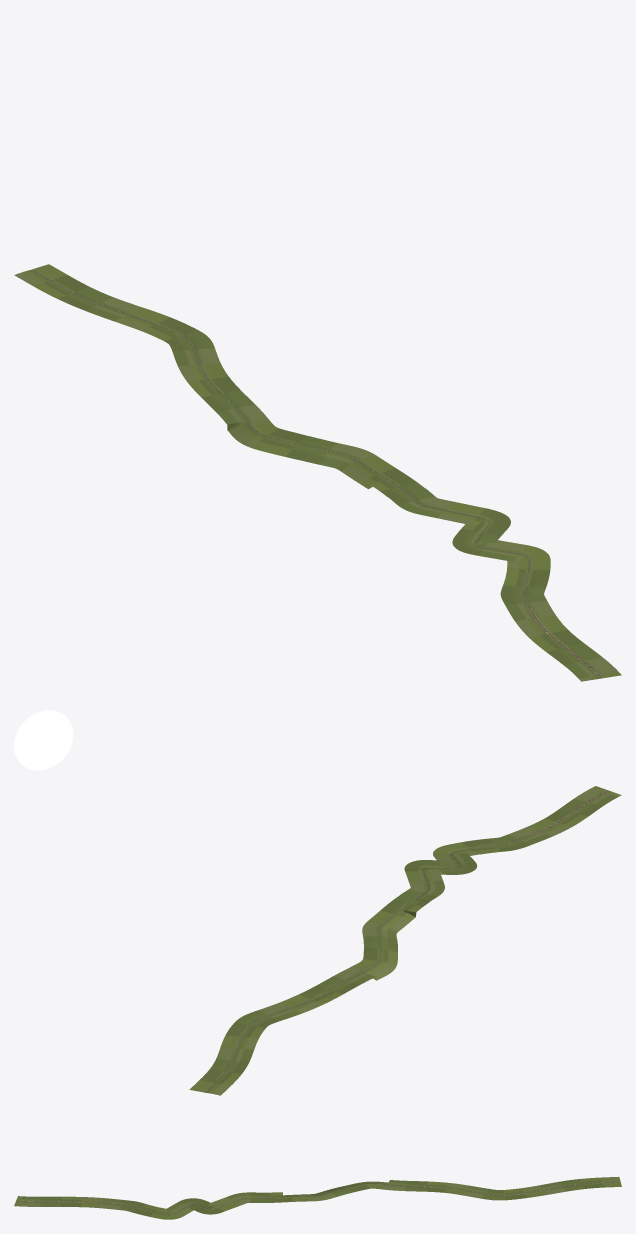
The model's file is fishhill.glb.
3 renders of one model, top to bottom at view 1: azimuth 30°, elevation 25°; view 2: azimuth 150°, elevation 25°; view 3: azimuth 270°, elevation 25°, orthographic. The views are drawn at different scales.
Parts seen in each view (by area): view 1: no part large enough to name; view 2: Sun; view 3: Meadow_013, Meadow_014, Meadow_012, Meadow_016, Meadow_018.
Part boxes in pixels (bbox=[...]): Sun: bbox=[14, 710, 73, 770]; Meadow_013: bbox=[168, 1203, 193, 1215]; Meadow_014: bbox=[177, 1198, 204, 1208]; Meadow_012: bbox=[160, 1208, 184, 1219]; Meadow_016: bbox=[194, 1203, 219, 1214]; Meadow_018: bbox=[217, 1197, 241, 1208].
Bounding box in the file's own units: 4715 × 3349 × 11032.
